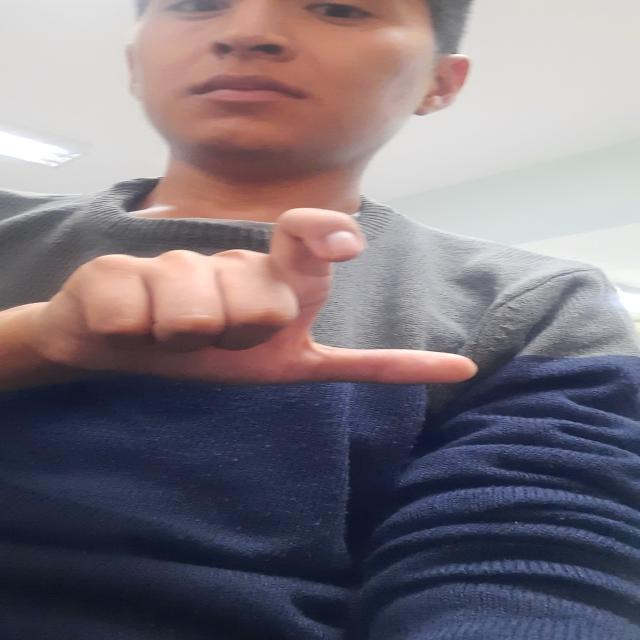G: (0, 202, 502, 394)
